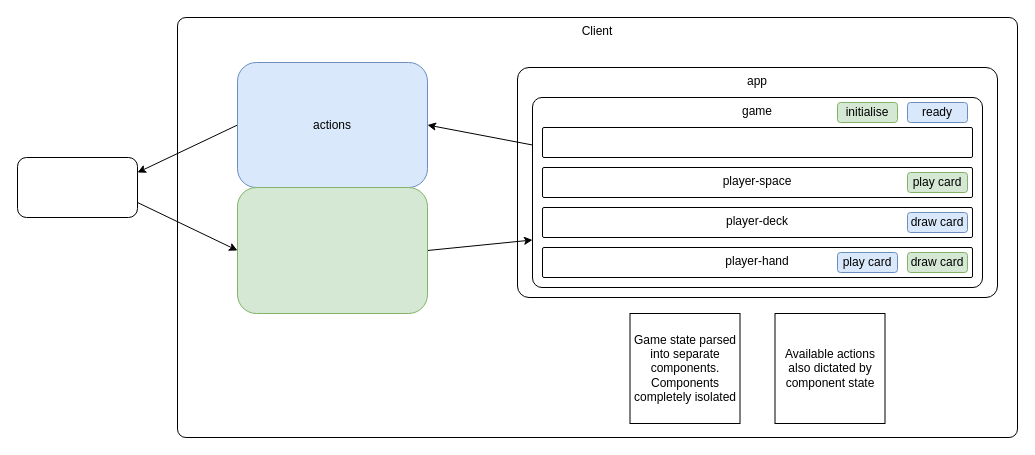
Some shapes in this 1035 by 455 pixel diagram are drawn without their labels. Each missing label, with the centre of its shape:
"event-space" belongs at (757,142).
"reactions" belongs at (332,250).
"Server" belongs at (77,187).
